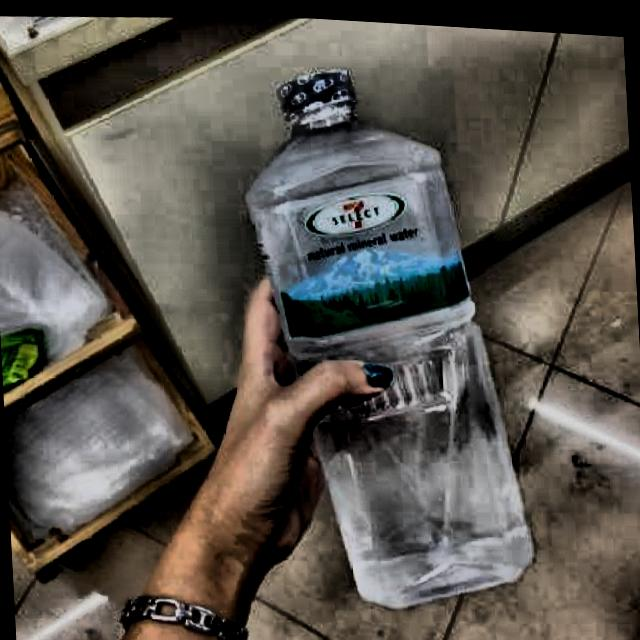Bottles: (205, 46, 563, 622)
